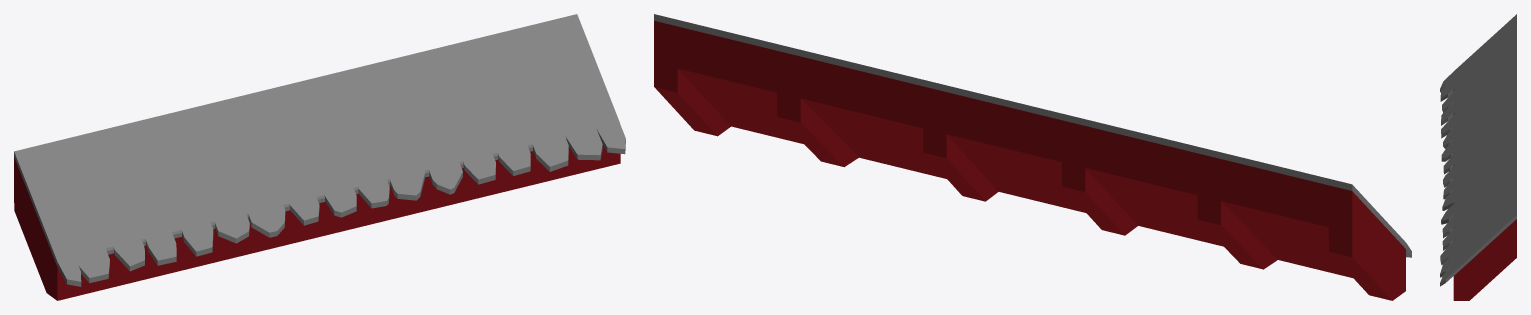
The model's file is SM_MH_01_Slate_Roof_End_01.fbx.
The picture shows the model from 3 angles, left to right: view 1: azimuth 30°, elevation 25°; view 2: azimuth 150°, elevation 25°; view 3: azimuth 270°, elevation 25°; orthographic projection. The views are drawn at different scales.
Visible parts, largest first — view 1: SM_MH_01_Slate_Roof_End_01_LOD0; view 2: SM_MH_01_Slate_Roof_End_01_LOD0; view 3: SM_MH_01_Slate_Roof_End_01_LOD0.
Part boxes in pixels (bbox=[...]): SM_MH_01_Slate_Roof_End_01_LOD0: bbox=[14, 14, 625, 300]; SM_MH_01_Slate_Roof_End_01_LOD0: bbox=[654, 14, 1411, 300]; SM_MH_01_Slate_Roof_End_01_LOD0: bbox=[1440, 14, 1516, 300].
Size of what is drawn, in the model's own units: 300 by 60 by 48.6.
